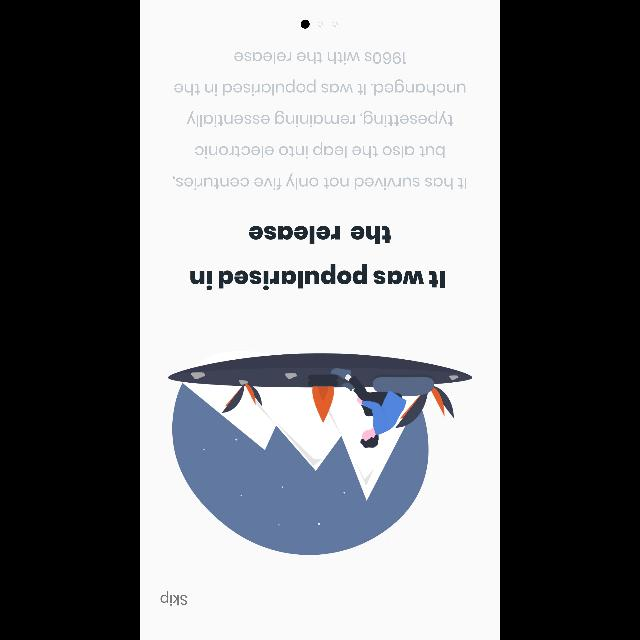image: (168, 353, 472, 555)
pageindicator: (300, 19, 338, 29)
text: (172, 51, 466, 190), (190, 226, 444, 290), (160, 590, 188, 606)
